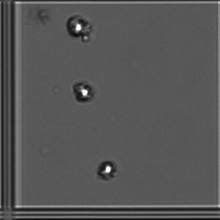Living Cell: (66, 10, 100, 45), (95, 154, 123, 193), (72, 76, 98, 106)
